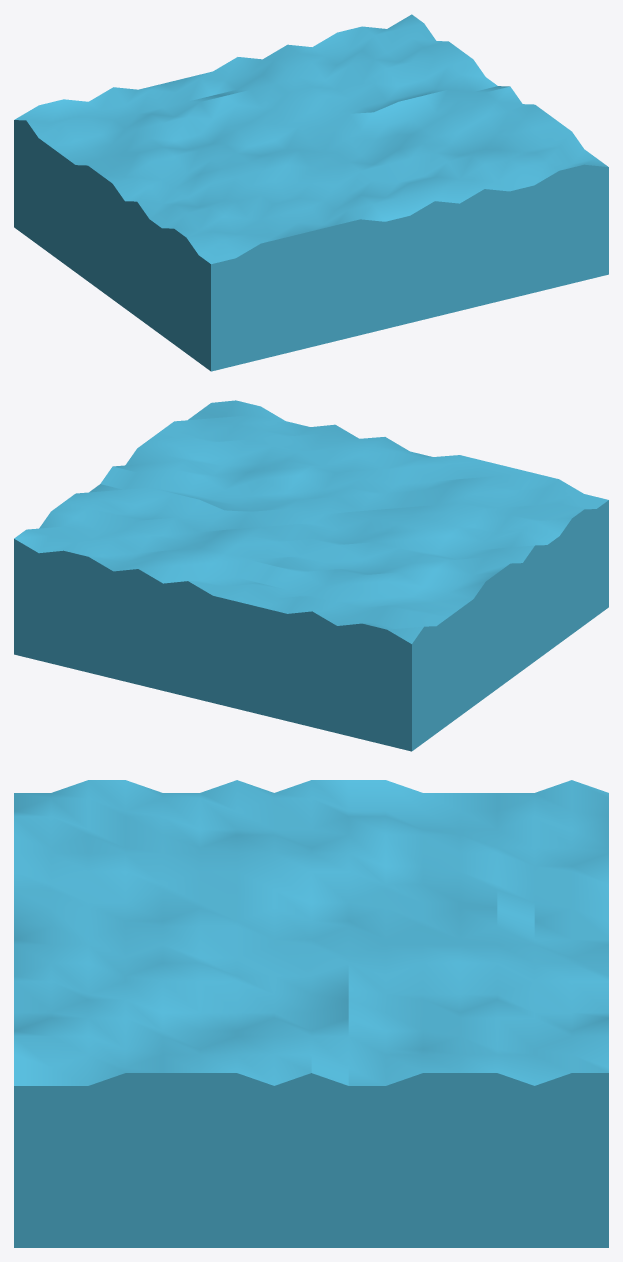
Rendered from agua.fbx.
3 views of the same model, one above another, from view 1: azimuth 30°, elevation 25°; view 2: azimuth 150°, elevation 25°; view 3: azimuth 270°, elevation 25° (orthographic). The views are drawn at different scales.
Visible parts, largest first — view 1: Cube; view 2: Cube; view 3: Cube.
Part boxes in pixels (x1=…): Cube: x1=14, y1=14, x2=608, y2=371; Cube: x1=14, y1=400, x2=608, y2=751; Cube: x1=14, y1=780, x2=608, y2=1247.
Bounding box in the file's own units: 348 × 96.93 × 299.
